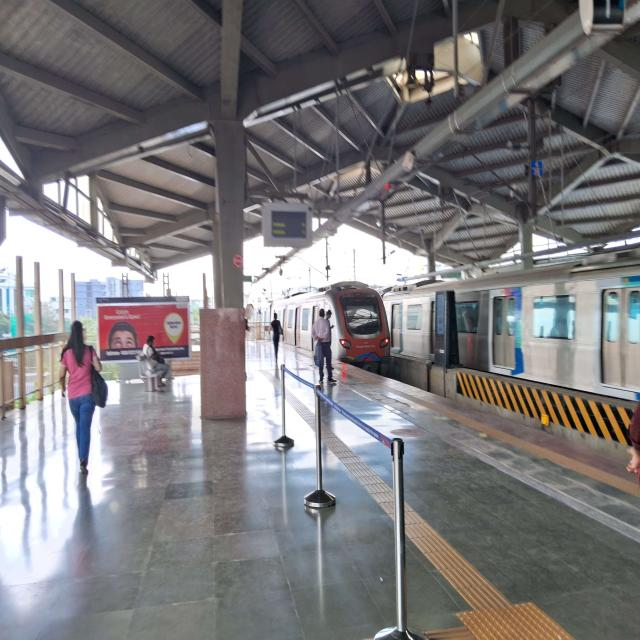train: (385, 260, 640, 402), (272, 266, 399, 381)
